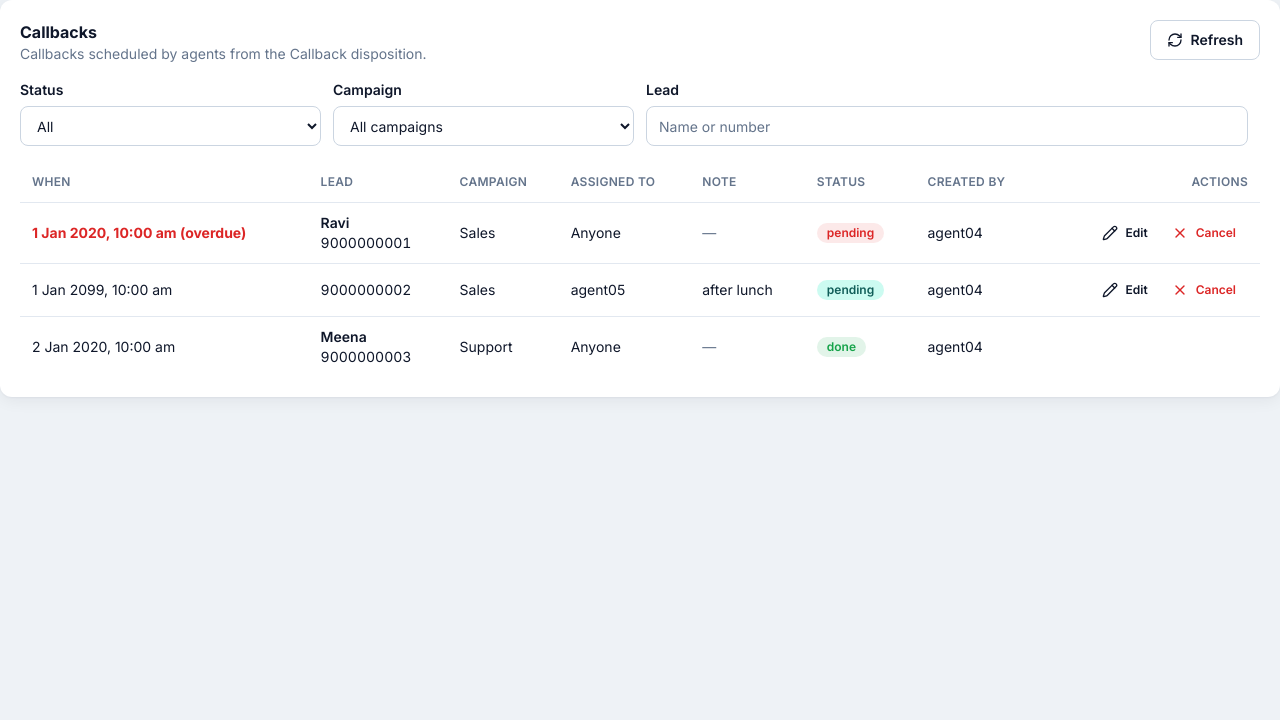
Scenario: Callbacks › shows the server's reason when cancel fails
Click the button with aria-label "Cancel callback for 9000000001" at x=1204, y=232, box left=1160, top=216, right=1248, bottom=248
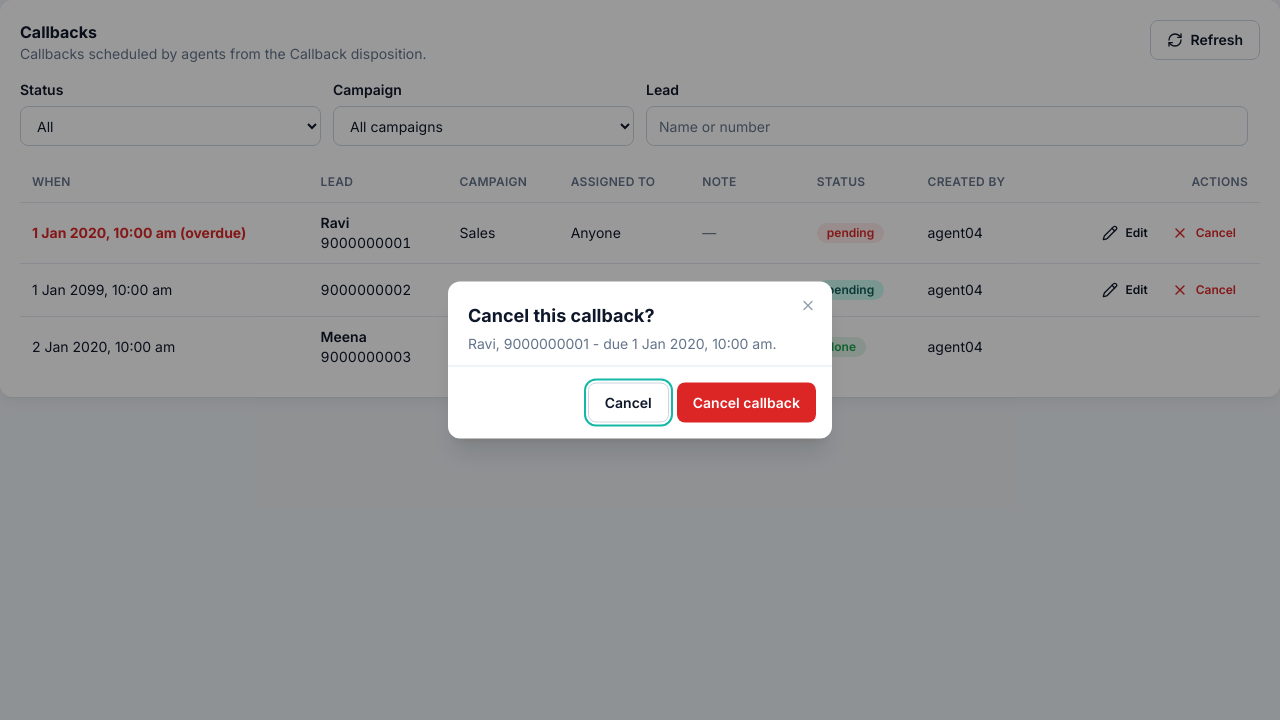
Click the button "Cancel callback" at x=746, y=402, box left=677, top=382, right=816, bottom=422
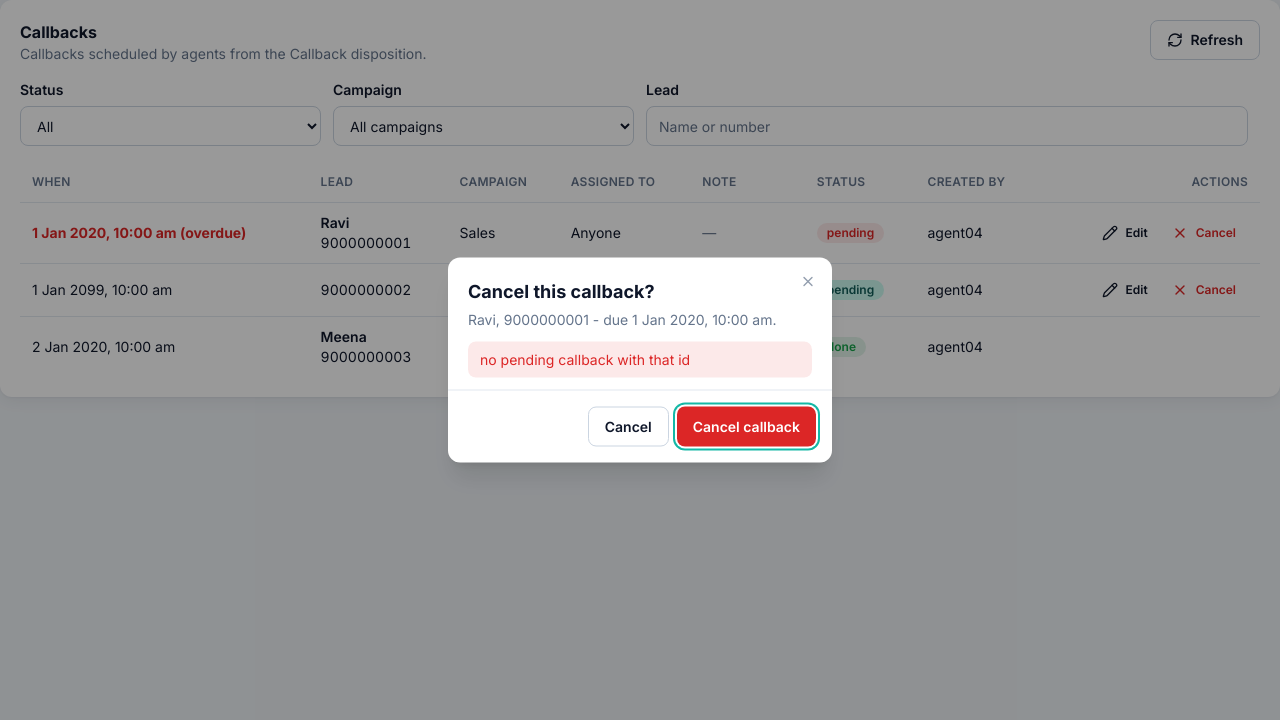
Expected: the message reads "no pending callback with that id", left=480, top=350, right=690, bottom=368
